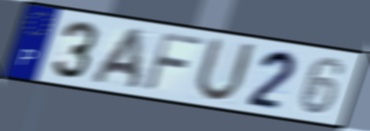2: (242, 47, 299, 114)
3: (51, 19, 100, 80)
6: (299, 55, 346, 117)
A: (87, 25, 144, 92)
F: (141, 30, 207, 94)
U: (191, 34, 258, 105)
